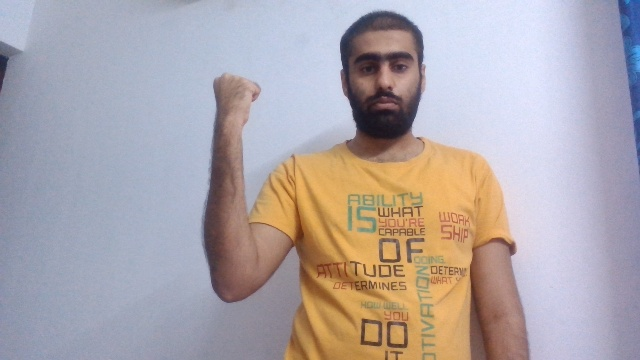rock: (211, 71, 261, 126)
